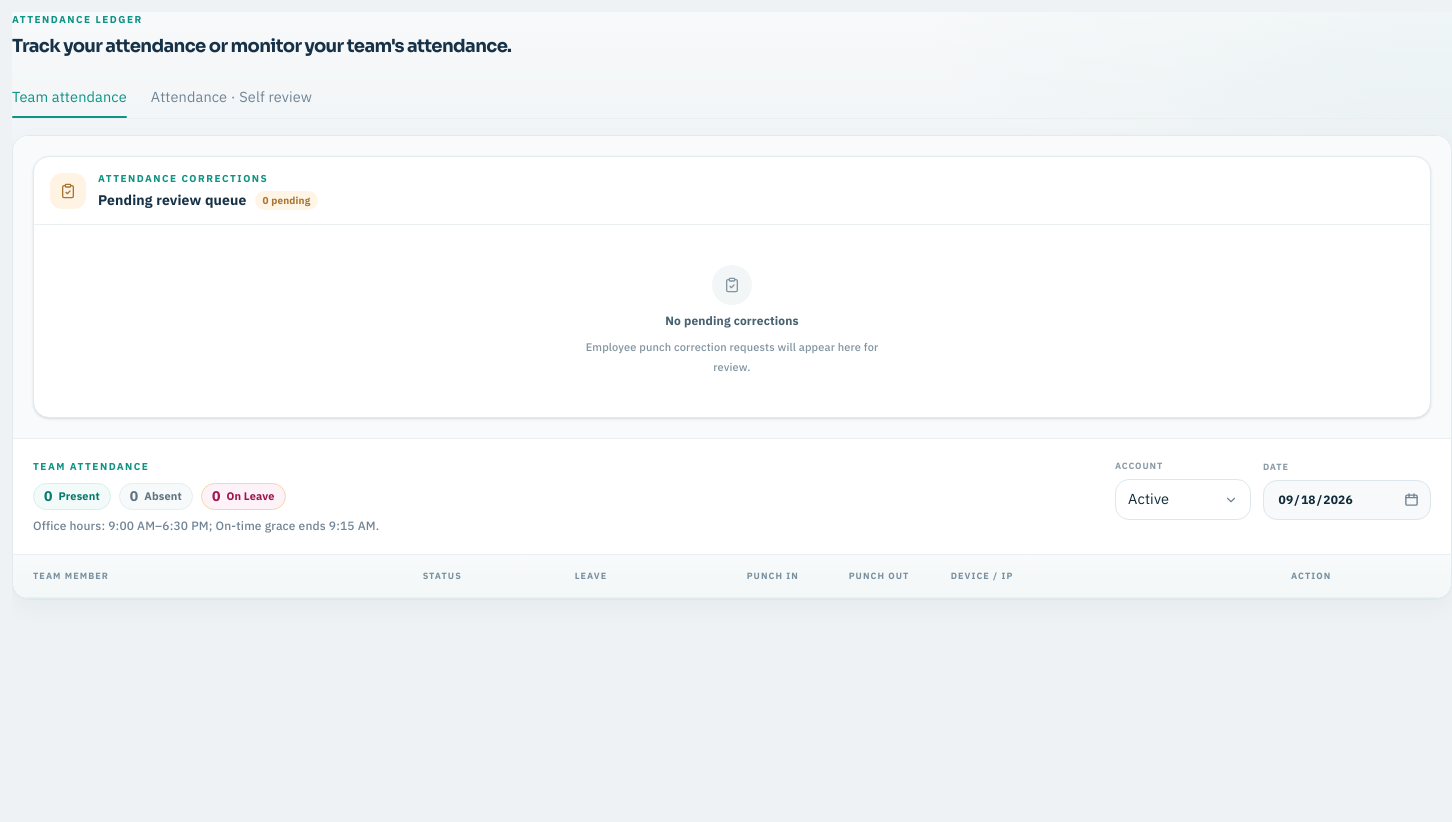
Test: AttendanceModule role behavior › MANAGER role › switches to Self review, showing manager's own attendance with NO user dropdown, and unmounts Team attendance
The width and height of the screenshot is (1452, 822).
// Click Self Review tab
Click the tab "Attendance · Self review".
click(232, 97)  # box [151,76,312,118]
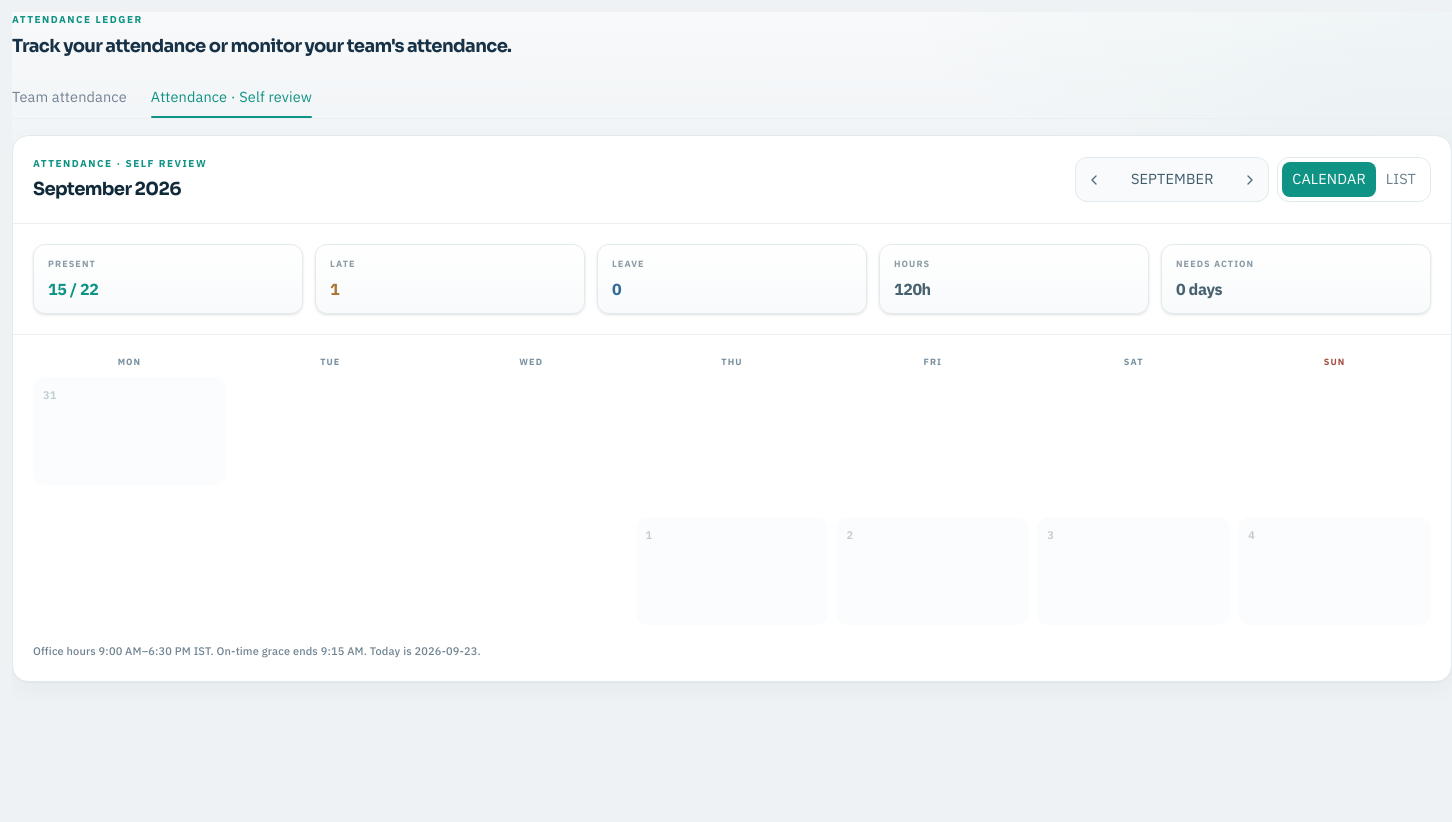
Check: the heading "Pending review queue" is gone
Check: the text labelled "Employee" is gone
